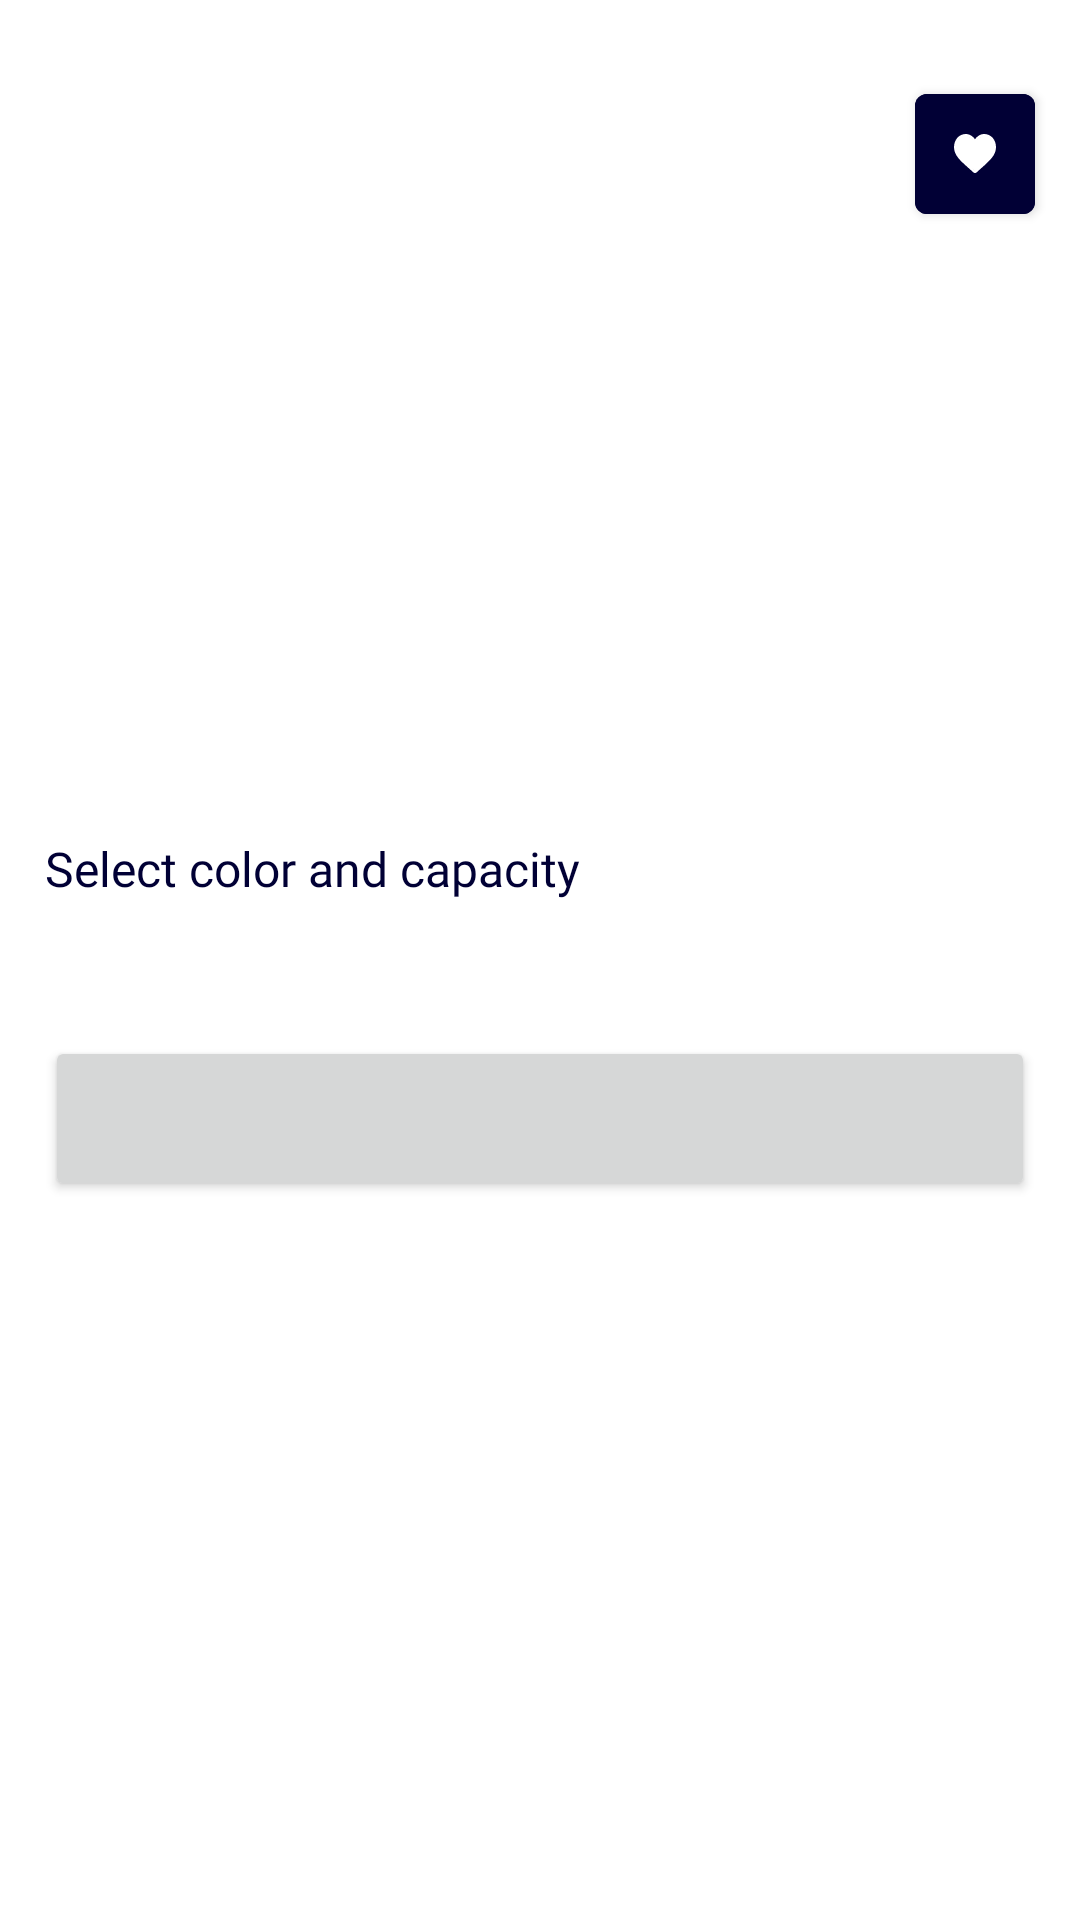

Screen size 1080px×1920px. Icon name, then its box in pixels as (x1, y1, x2, y2):
favorite on detail: (915, 94, 1035, 214)
